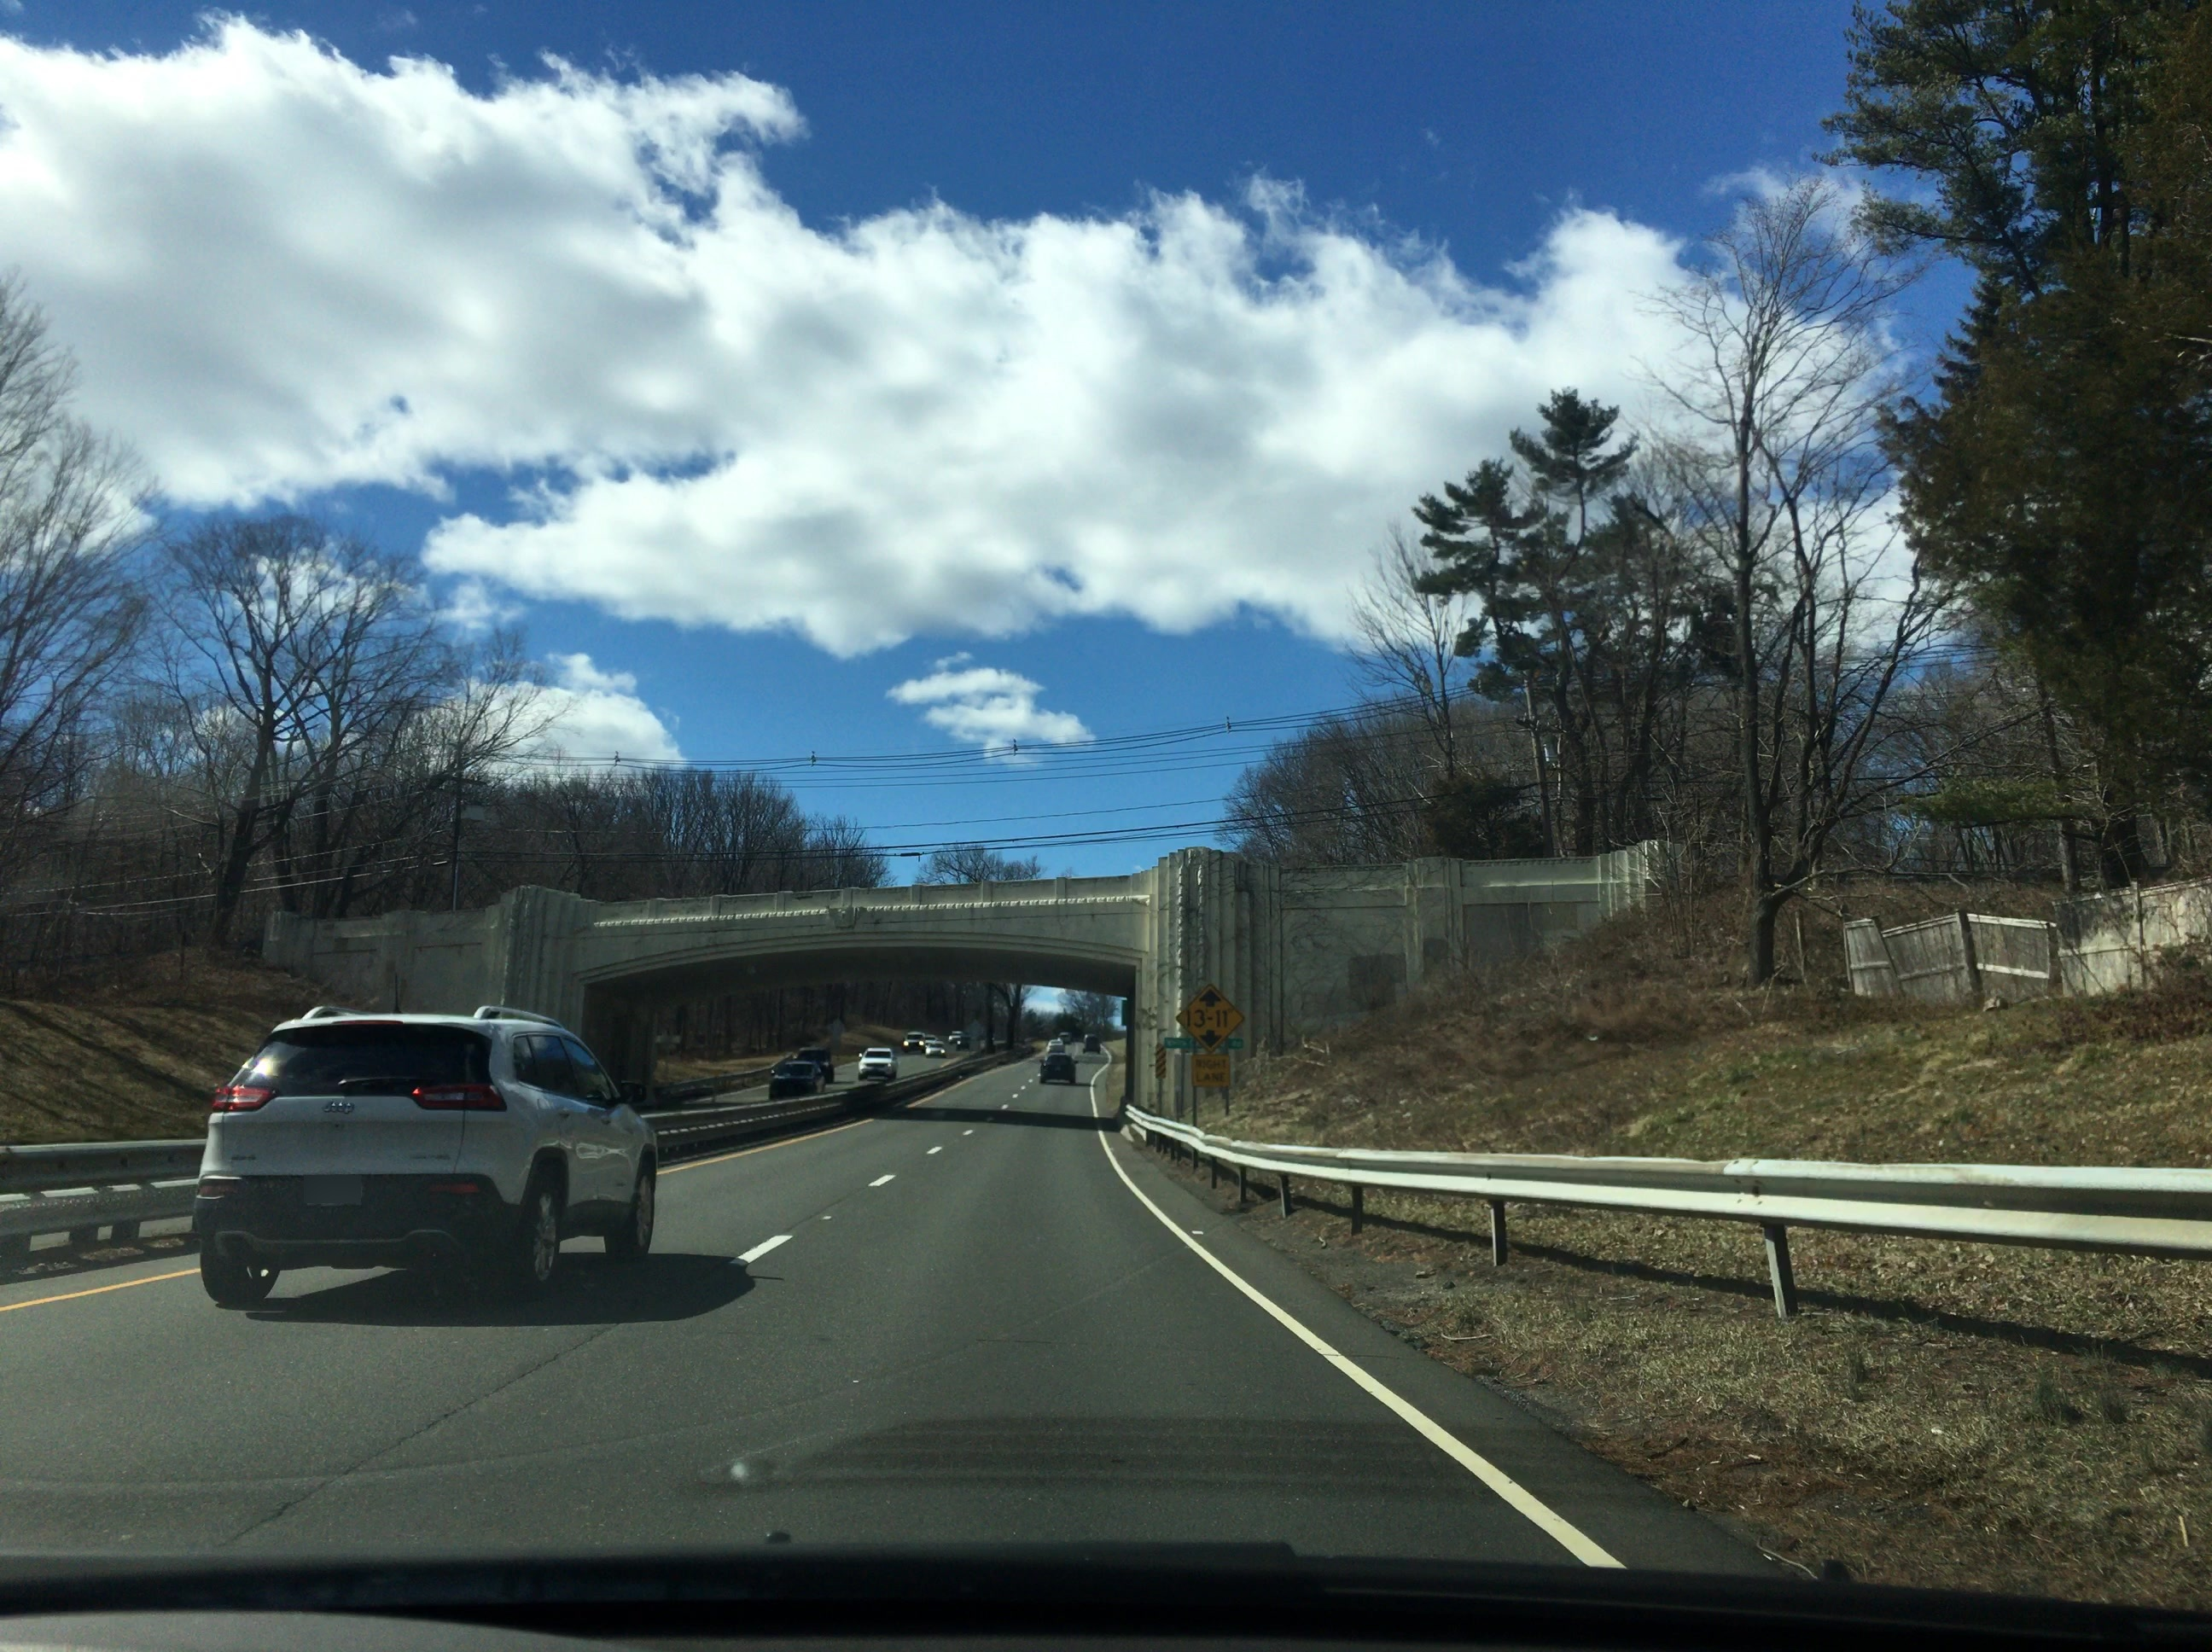low-clearance-sign: (1175, 982, 1246, 1055)
